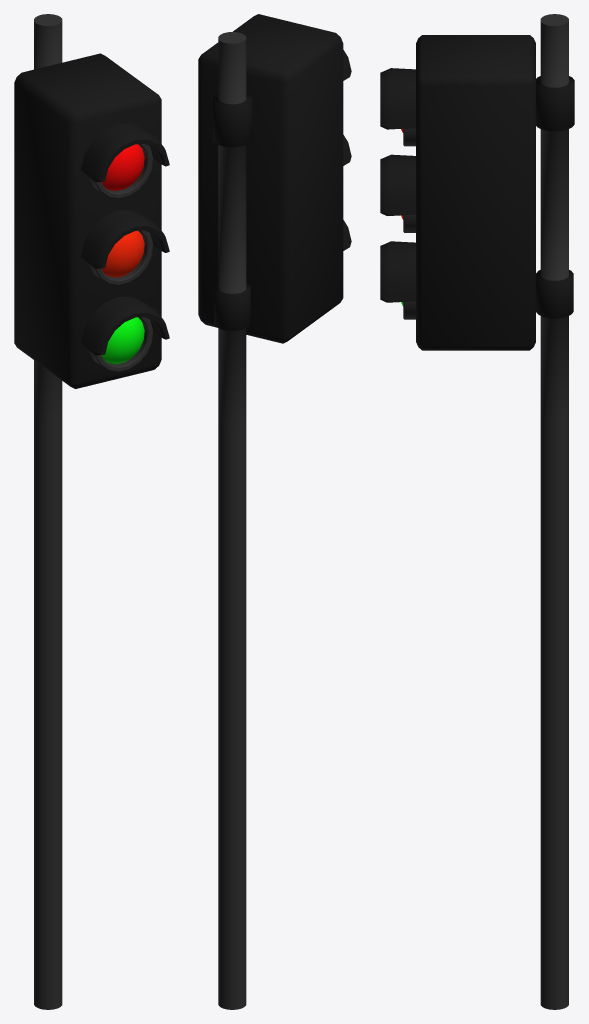
The model's file is Semáforo.FBX.
3 renders of one model, left to right at view 1: azimuth 30°, elevation 25°; view 2: azimuth 150°, elevation 25°; view 3: azimuth 270°, elevation 25°, orthographic.
Parts seen in each view (by area): view 1: Box001, Cylinder003, f, f002, f001, Sphere003, Sphere001, Sphere004; view 2: Box001, Cylinder003; view 3: Box001, Cylinder003, f, f002, f001.
Boxes of the visible parts, x1=… form: Box001: x1=14, y1=53, x2=161, y2=388; Cylinder003: x1=34, y1=14, x2=62, y2=1009; f: x1=81, y1=296, x2=169, y2=355; f002: x1=81, y1=123, x2=169, y2=181; f001: x1=81, y1=210, x2=169, y2=268; Sphere003: x1=89, y1=230, x2=152, y2=285; Sphere001: x1=89, y1=317, x2=152, y2=372; Sphere004: x1=89, y1=144, x2=152, y2=198; Box001: x1=198, y1=14, x2=343, y2=343; Cylinder003: x1=213, y1=32, x2=251, y2=1009; Box001: x1=416, y1=35, x2=535, y2=350; Cylinder003: x1=536, y1=14, x2=574, y2=1009; f: x1=380, y1=241, x2=415, y2=302; f002: x1=380, y1=68, x2=415, y2=129; f001: x1=380, y1=154, x2=415, y2=215.
Size of the model in its own units: 10.34 by 104 by 18.58.
